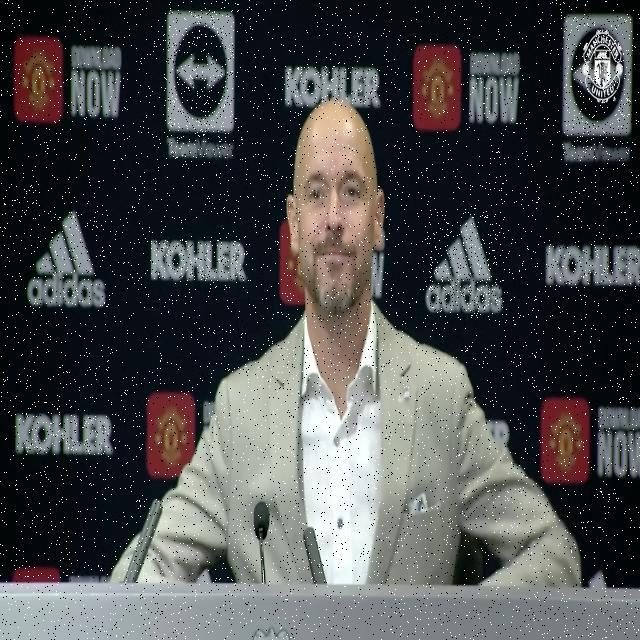Adidas: (425, 211, 504, 319), (27, 207, 106, 310)
Kohler: (15, 413, 114, 455), (152, 239, 248, 282), (285, 64, 381, 106), (545, 244, 640, 286)
TeamViewer: (564, 16, 632, 160), (168, 12, 234, 158)
